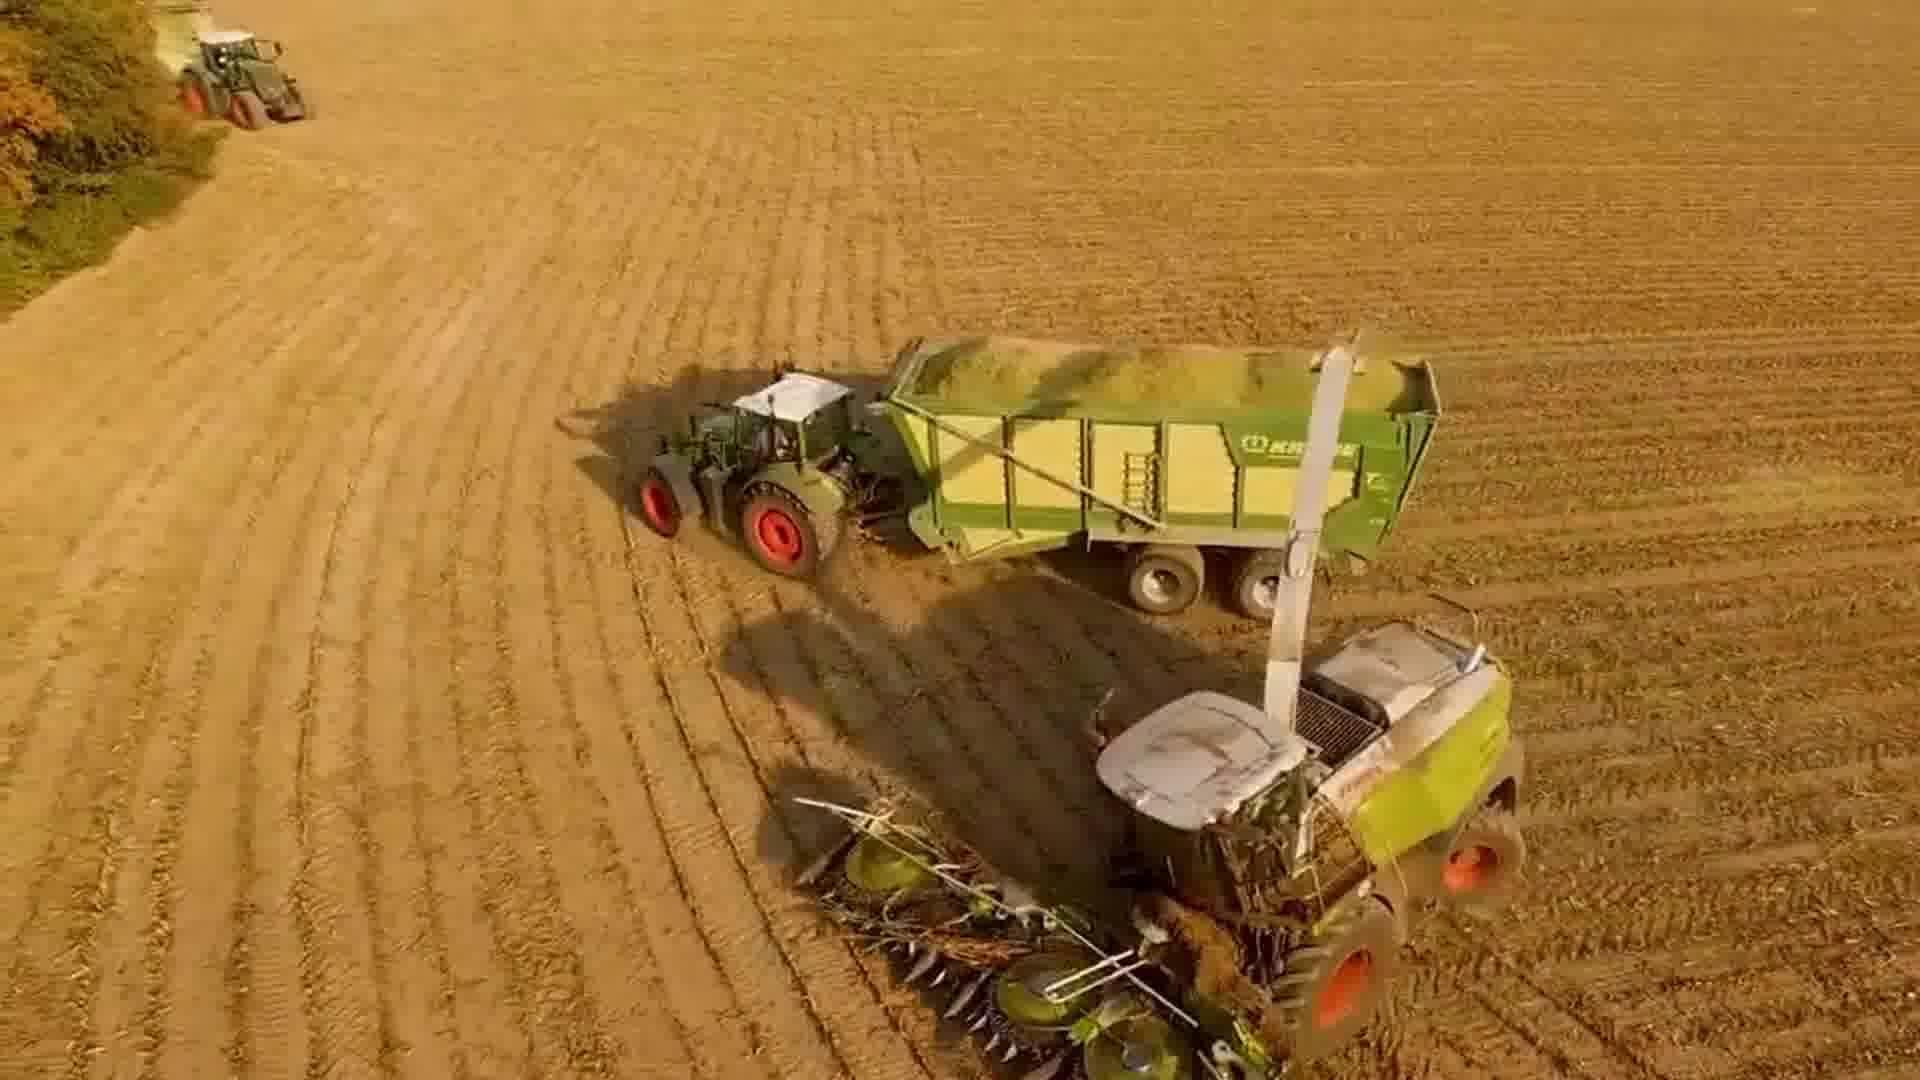combine harvester: (781, 315, 1540, 1080)
tractor: (632, 364, 886, 582), (174, 26, 307, 133)
trailer: (870, 338, 1461, 618)
